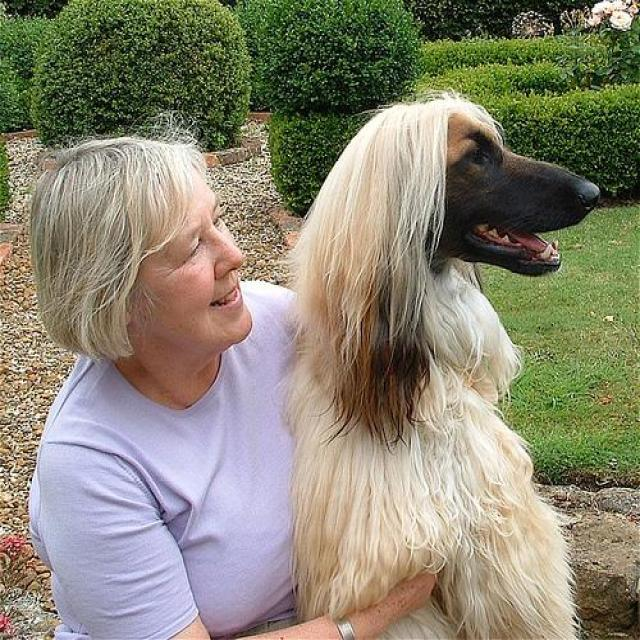afghan_hound: (281, 89, 603, 637)
